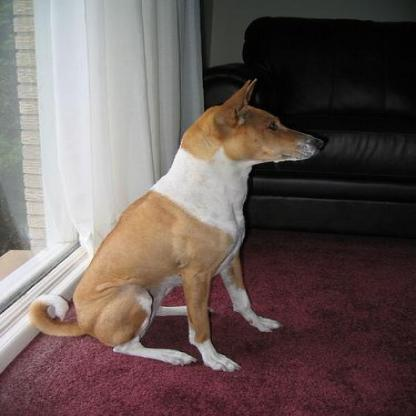basenji: (23, 78, 324, 372)
